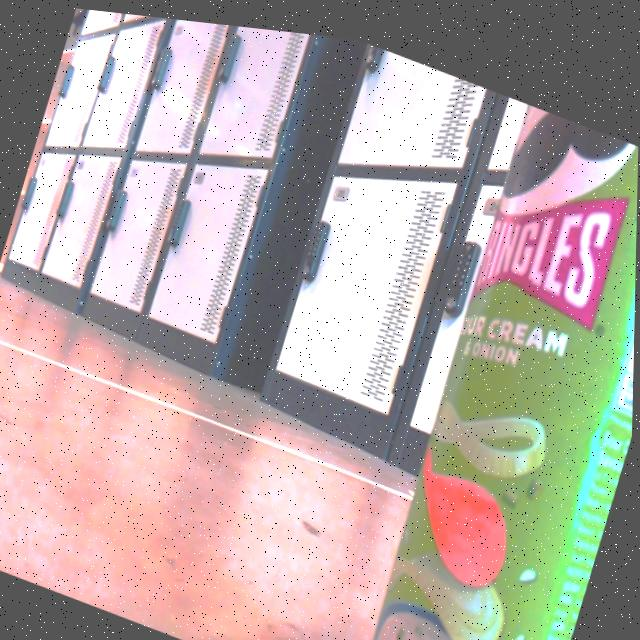greenpringles: (342, 73, 639, 640)
